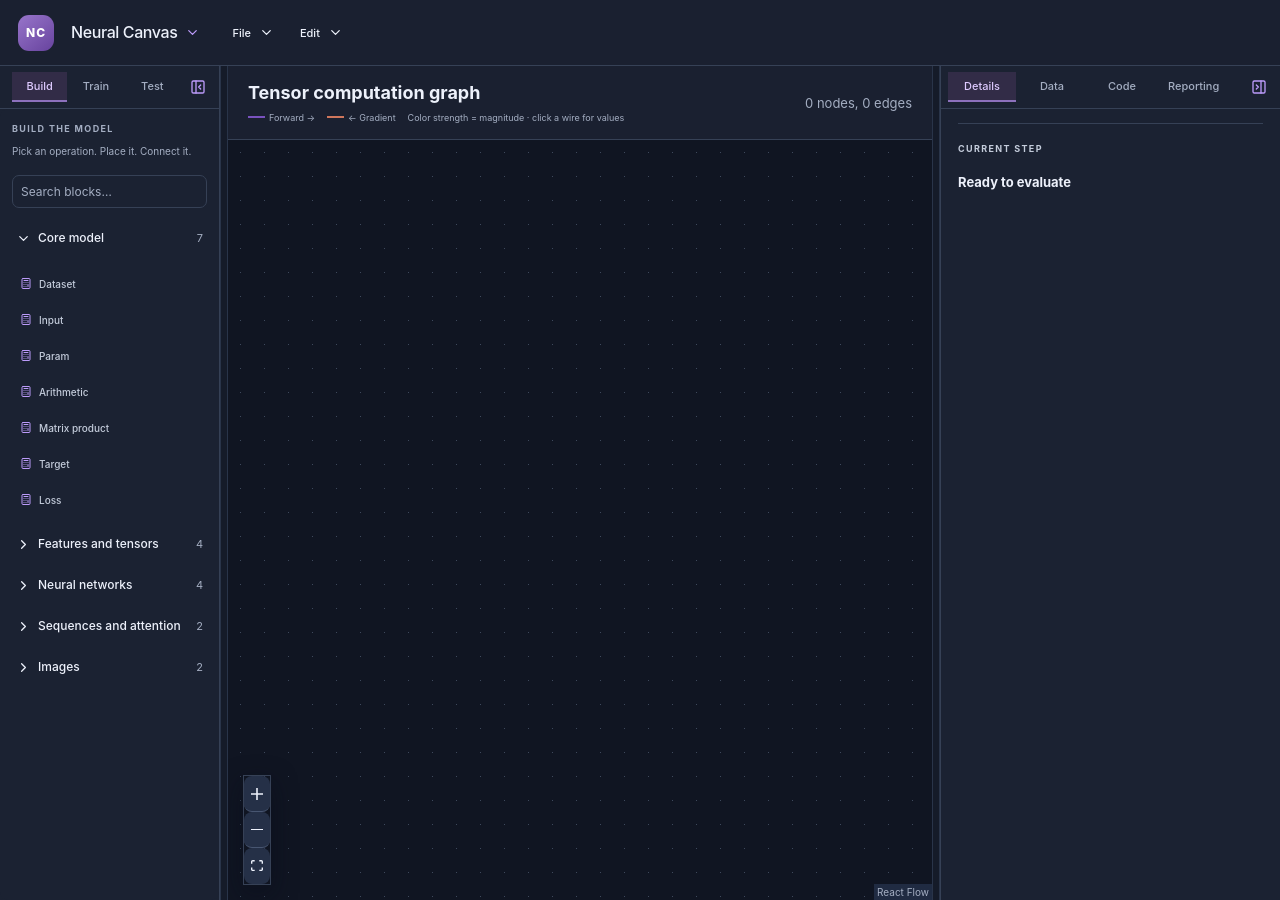
creates an editable addition block from the canvas shortcut using Enter
Double-click the element with class "react-flow__pane": (580, 520) [228, 140, 932, 899]
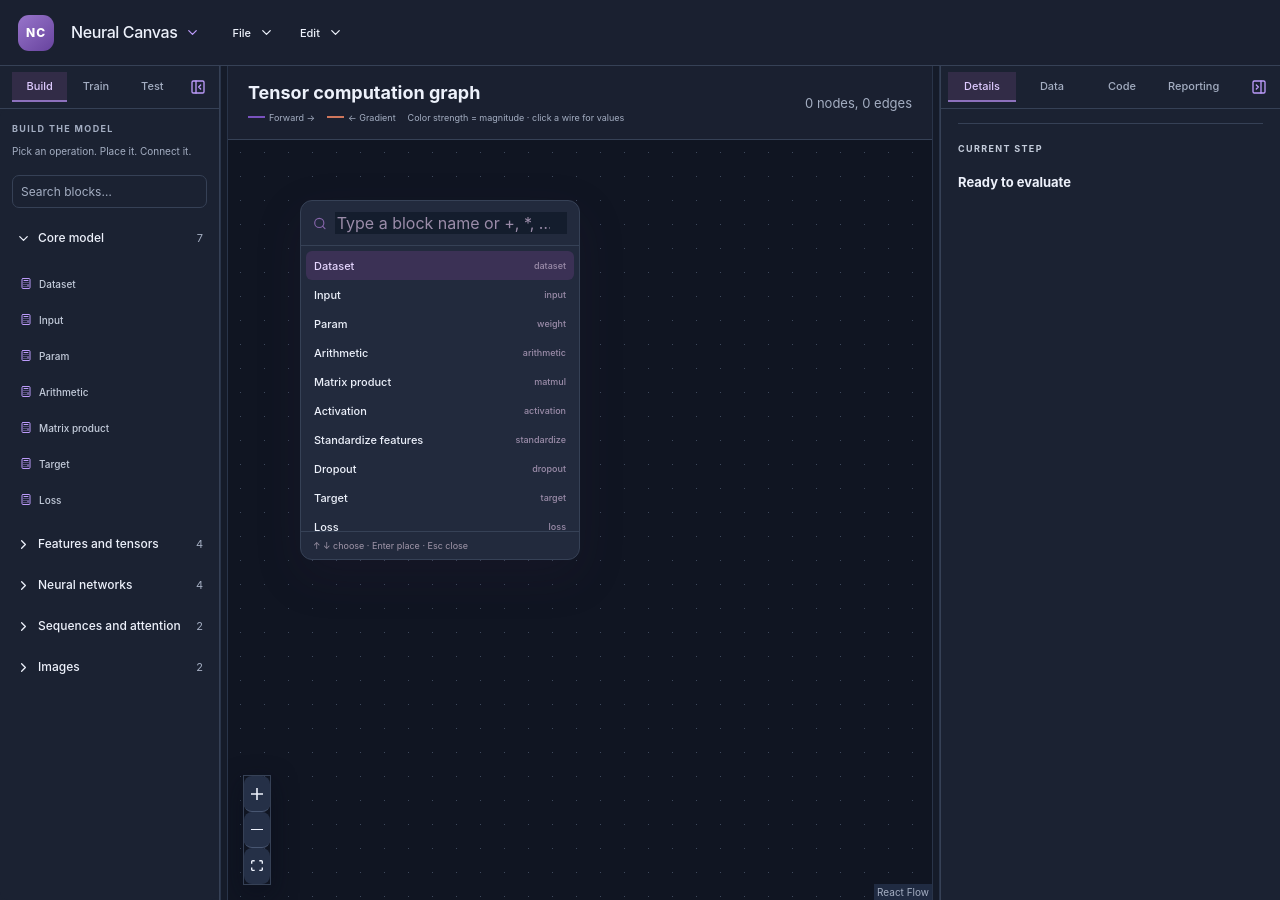
In the search field named "Search blocks": (451, 223) [335, 212, 567, 234], type "+"
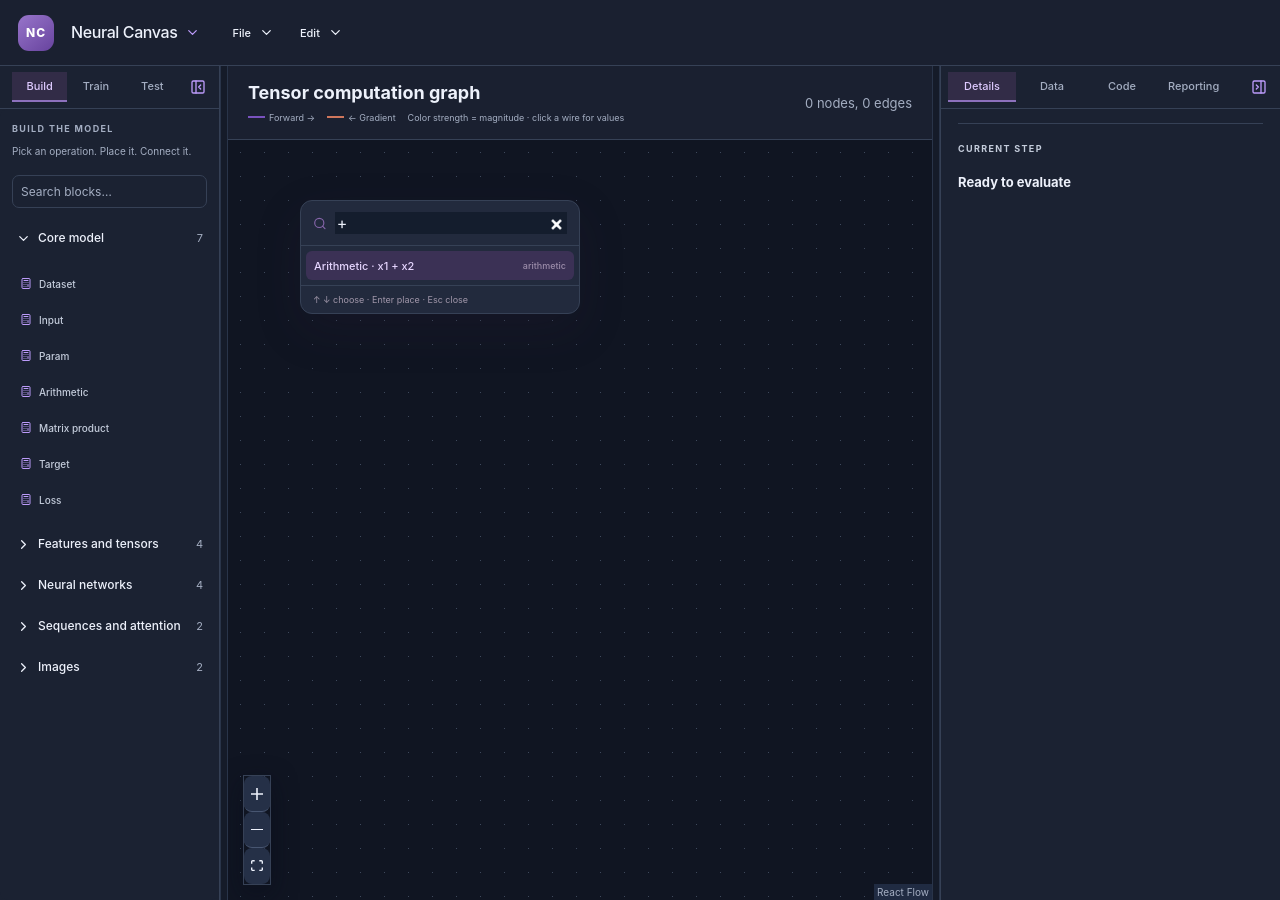
Press Enter in the search field named "Search blocks", box [335, 212, 567, 234]
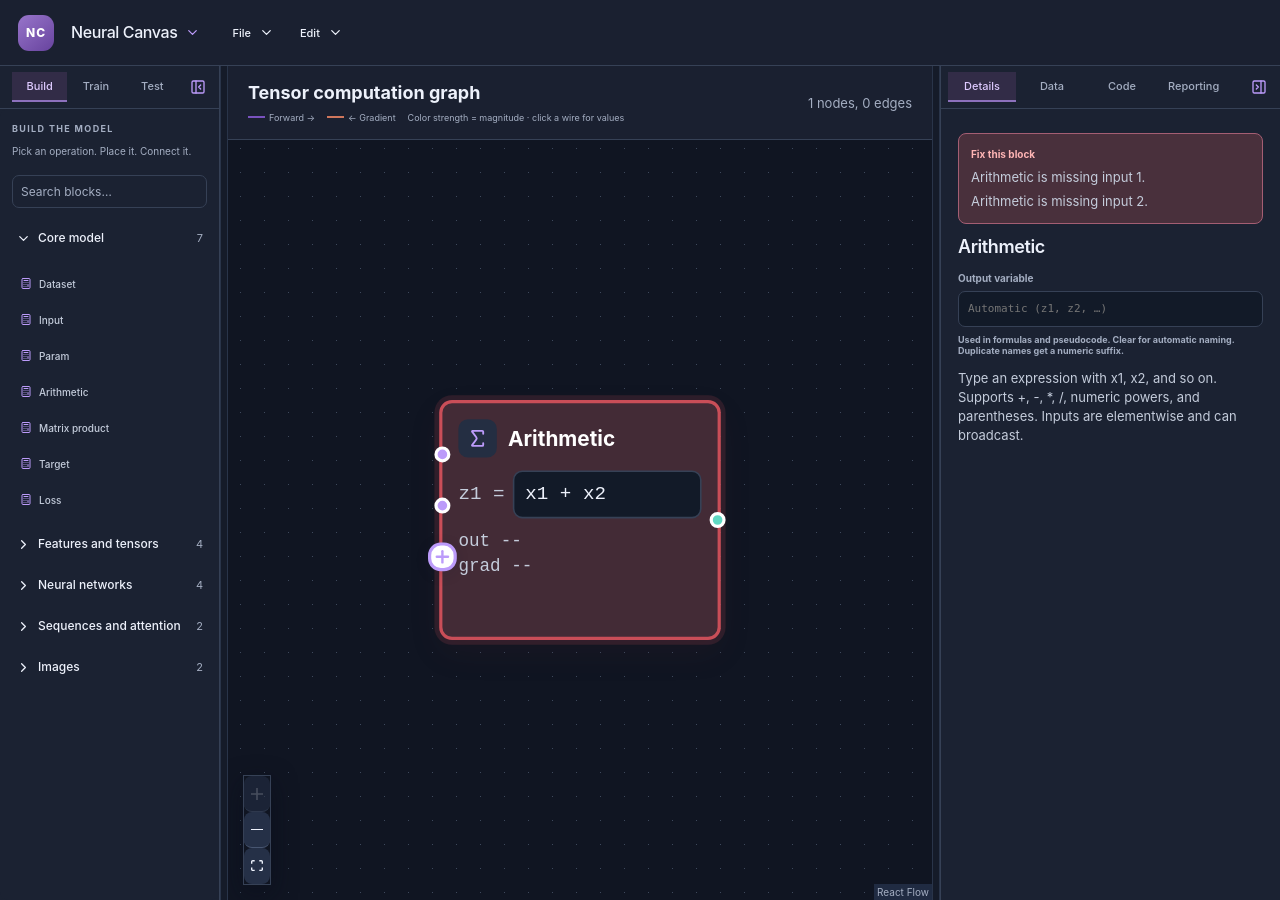
Check: the field named "Arithmetic expression" holds "x1 + x2", box [512, 470, 702, 518]
Check: the number of elements with class "target" is 2, box [434, 446, 450, 462]; [434, 498, 450, 514]
